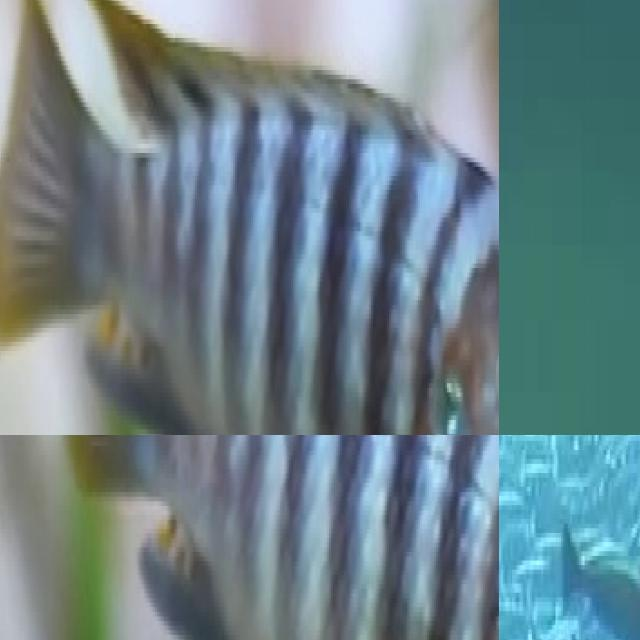fish: (0, 0, 499, 435), (24, 435, 499, 640)
